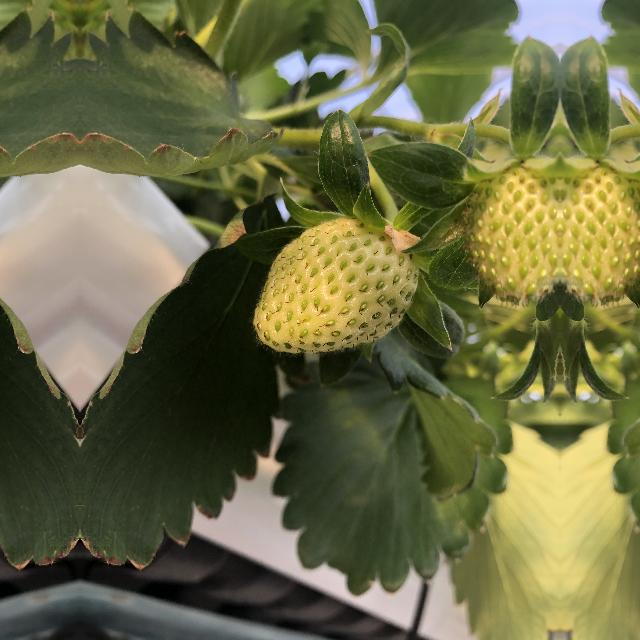Health_25: (246, 211, 434, 357), (462, 155, 560, 297), (560, 155, 640, 297)
